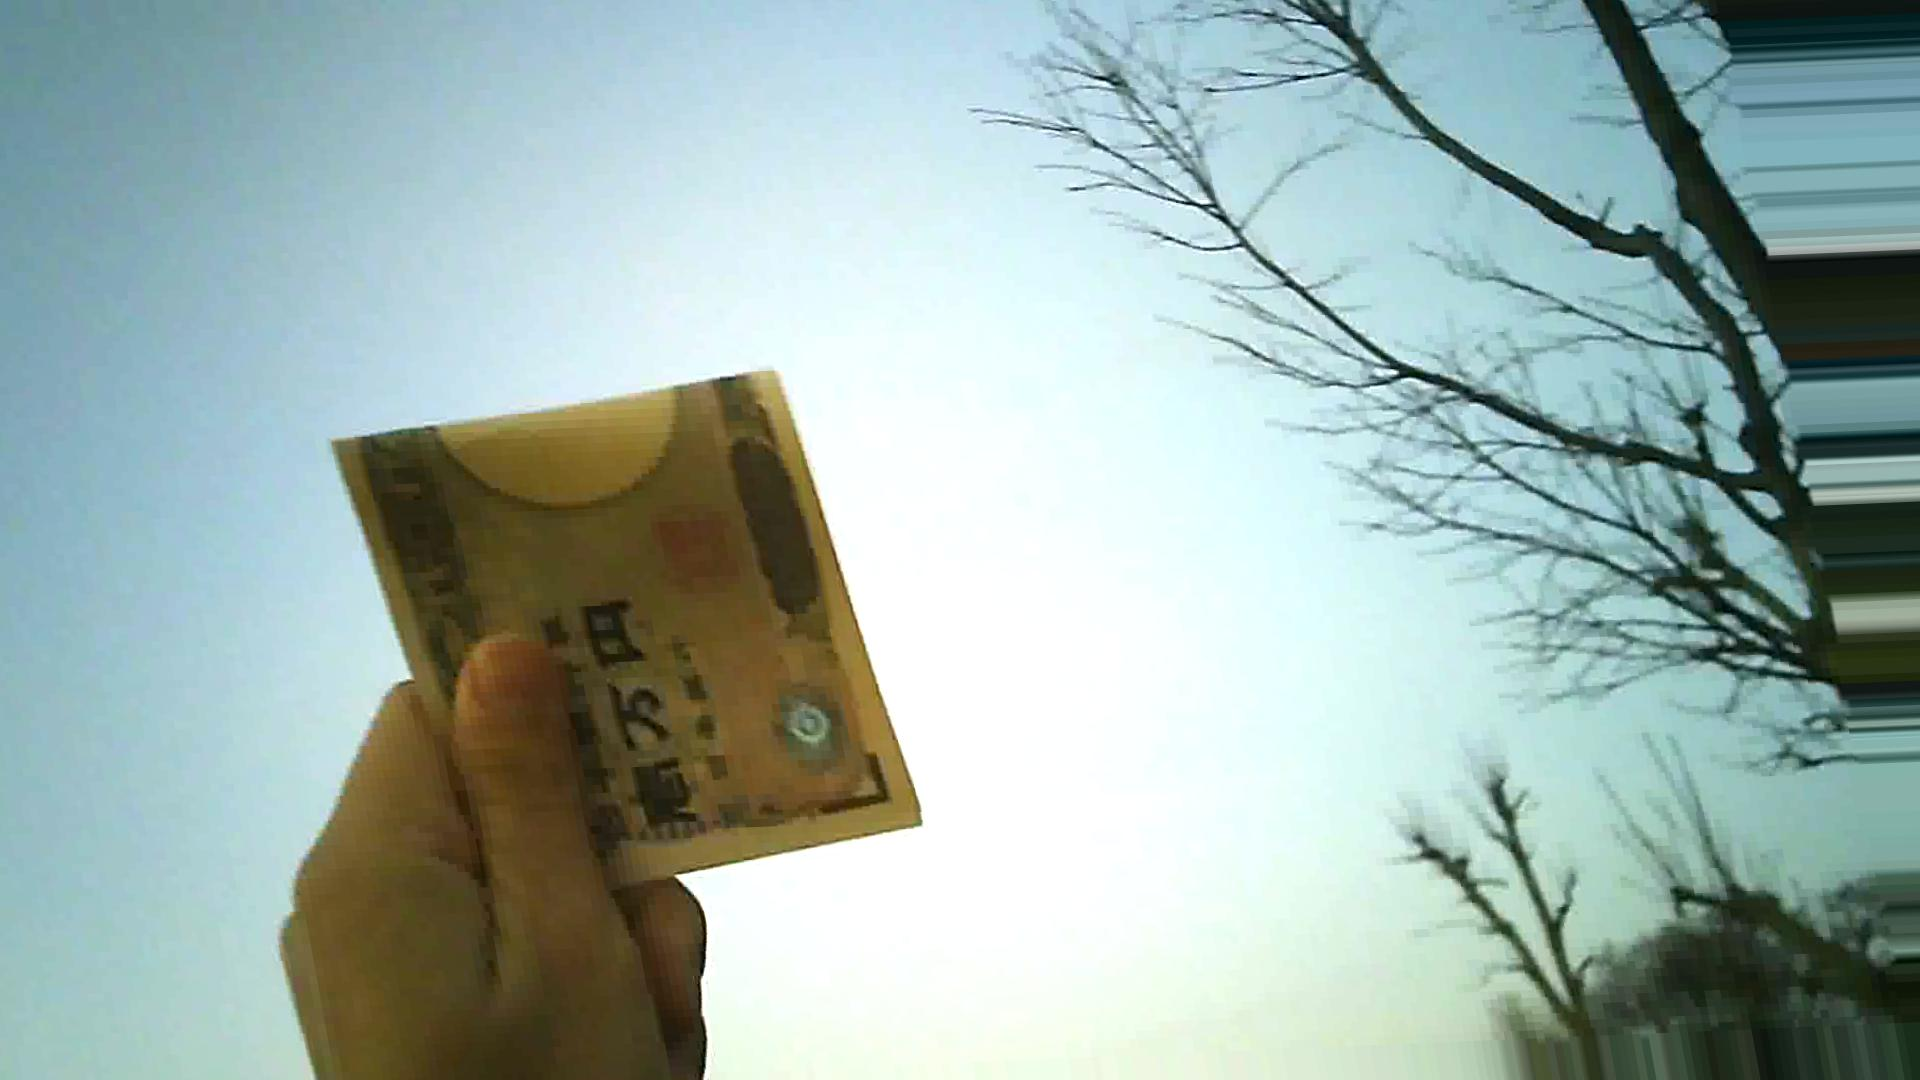10,000 Yen: (303, 348, 934, 949)
